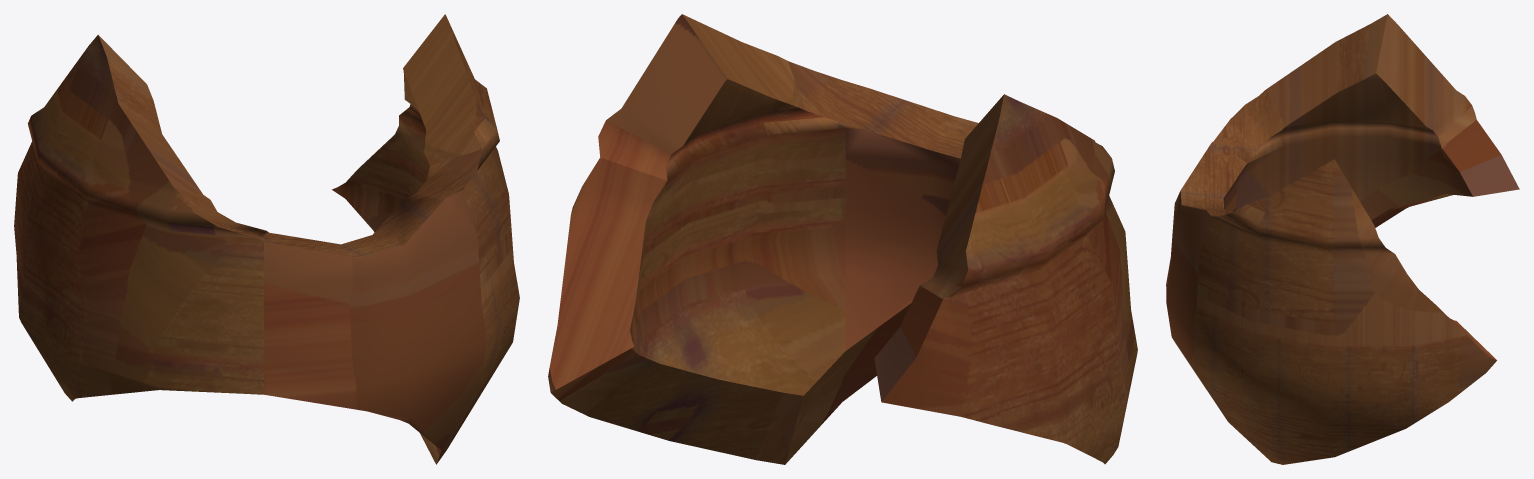
The model's file is brokebottle2-8.fbx.
3 renders of one model, left to right at view 1: azimuth 30°, elevation 25°; view 2: azimuth 150°, elevation 25°; view 3: azimuth 270°, elevation 25°, orthographic. The views are drawn at different scales.
Visible parts, largest first — view 1: polySurface10; view 2: polySurface10; view 3: polySurface10.
Boxes of the visible parts, x1,y1,x2,y2 form: polySurface10: (14,14,519,464); polySurface10: (548,14,1137,464); polySurface10: (1166,14,1519,464).
Size of the model in its own units: 48.57 by 46.83 by 43.29.
